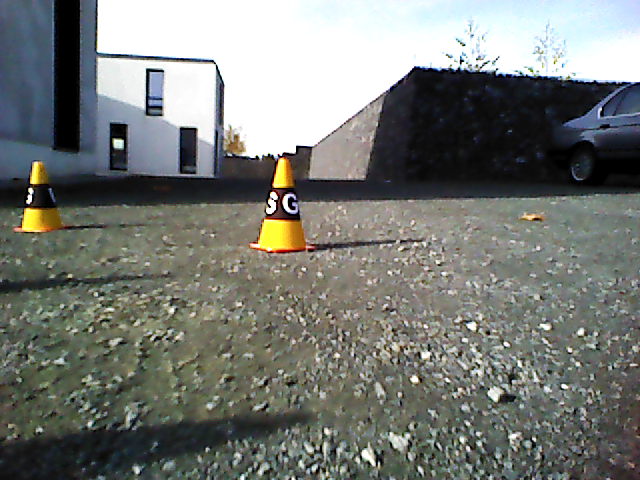yellowcone: (257, 158, 307, 249), (23, 161, 61, 228)
